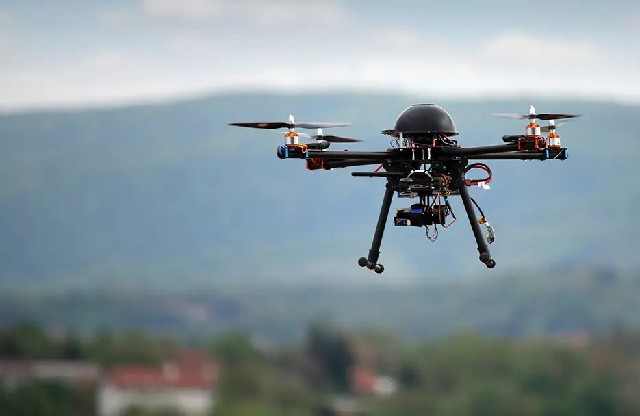maybay_khongnguoilai: (235, 95, 582, 267)
